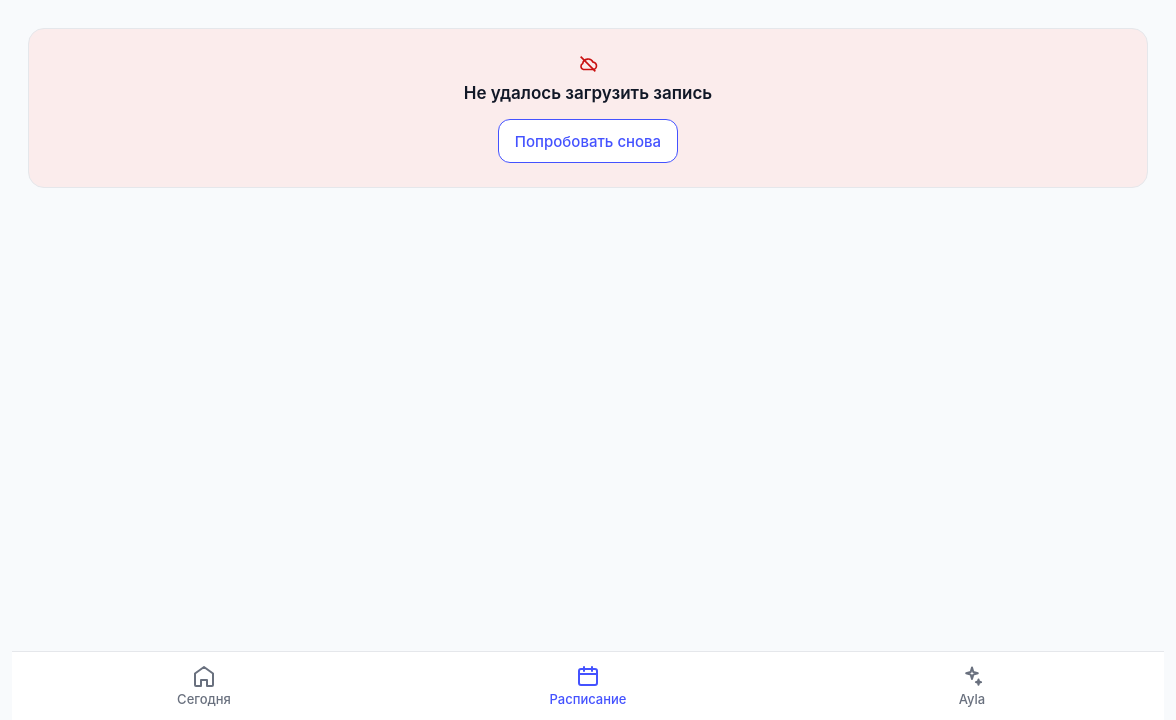
Test: ошибки загрузки › 404 not_found → «Не удалось загрузить запись» + «Попробовать снова» (ruling §61 е); без «Завершено» и без имени
Expected: the message shows "Не удалось загрузить запись", x1=464 y1=83 x2=712 y2=103
Expected: the text "Анна П." is not shown
Click the button "Попробовать снова". click: click(588, 141)
box: x1=498 y1=119 x2=678 y2=163
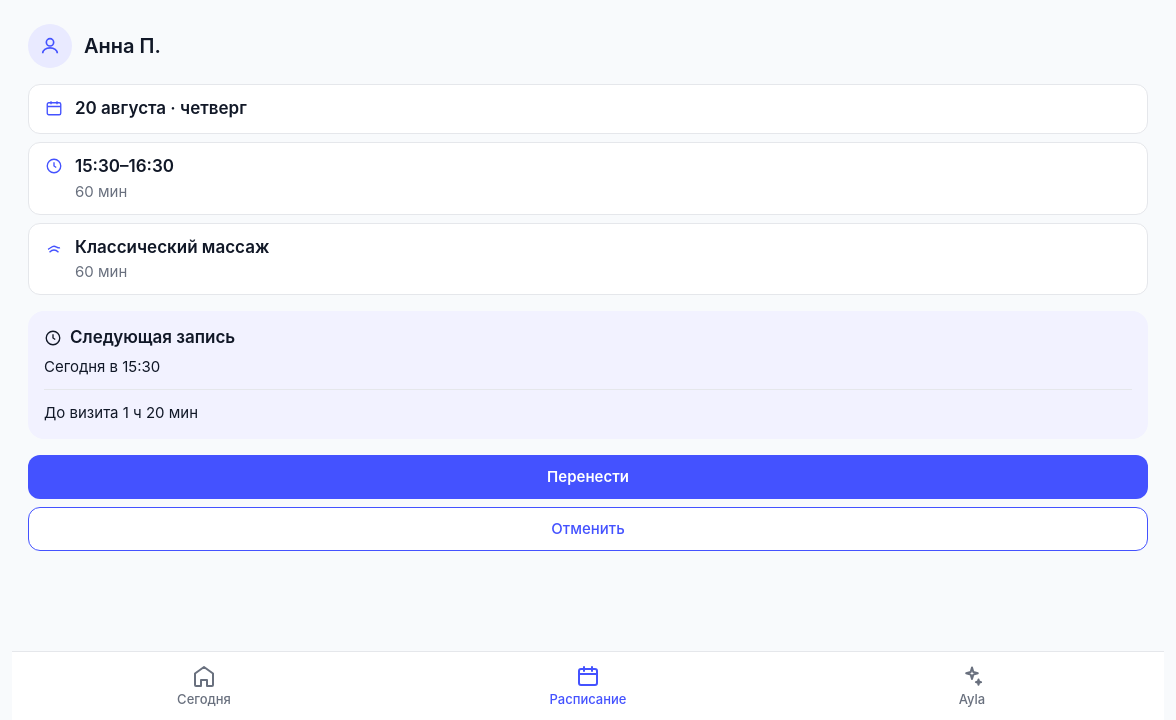
Now the element "Анна П." is shown
